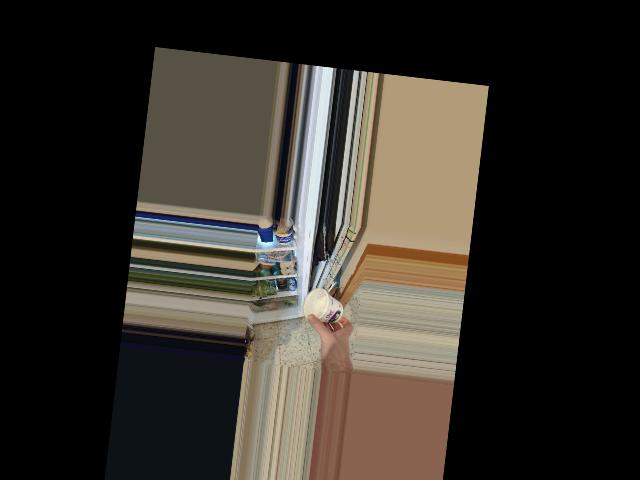cotage: (305, 289, 345, 326)
